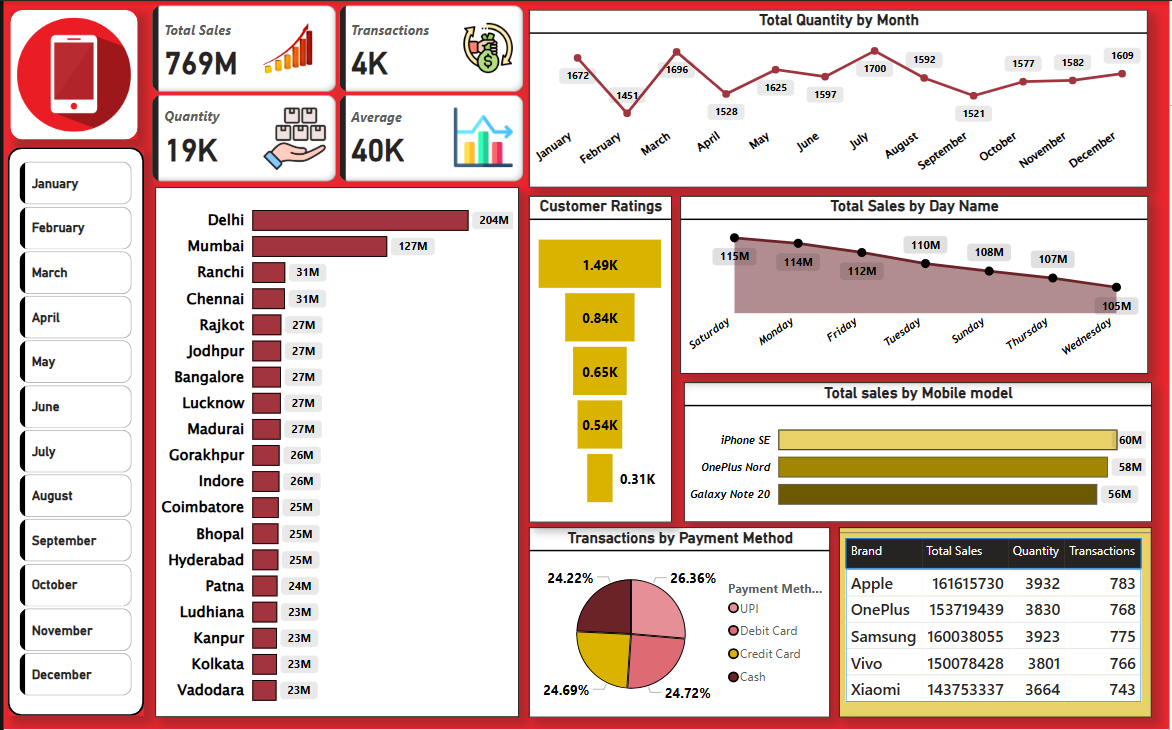

The page's visual inventory and layout, read from the dashboard file:
{"tool":"powerbi","page":{"name":"Page 1","canvas":[1280,800],"ordinal":0},"visuals":[{"type":"shape","box":[6.9,9.6,140,142.7],"z":0},{"type":"image","box":[9.6,13.7,134.5,134.5],"z":1000},{"type":"shape","box":[4.1,160.5,149.6,624.4],"z":2000},{"type":"advancedSlicerVisual","fields":{"Values":["Sheet1.Date.Variation.Date Hierarchy.Month"]},"box":[12.3,171.5,133.1,603.8],"z":3000},{"type":"cardVisual","fields":{"Data":["Sheet1.Total Sales","Sheet1.Total Transactions","Sheet1.Total Quantity","Sheet1.Average"]},"box":[157.8,0,418.5,204.5],"z":4000},{"type":"barChart","fields":{"Category":["Sheet1.City"],"Y":["Sheet1.Total Sales"]},"box":[166,204.5,399.3,581.8],"z":5000},{"type":"lineChart","title":"Total Quantity by Month","fields":{"Y":["Sheet1.Quantity"],"Category":["Sheet1.Date.Variation.Date Hierarchy.Month","Sheet1.Date.Variation.Date Hierarchy.Day"]},"box":[576.3,9.6,679.2,194.9],"z":6000},{"type":"barChart","title":"Total sales by Mobile model","fields":{"Category":["Sheet1.Mobile Model"],"Y":["Sheet1.Total Sales"]},"box":[746.5,418.5,513.2,153.7],"z":7000},{"type":"pieChart","fields":{"Category":["Sheet1.Payment Method"],"Y":["Sheet1.Transactions"]},"box":[576.3,577.7,330.7,208.6],"z":8000},{"type":"funnel","title":" Customer Ratings ","fields":{"Y":["CountNonNull(Sheet1.Customer Ratings)"],"Category":["Sheet1.Customer Ratings"]},"box":[576.3,214.1,156.4,358.1],"z":9000},{"type":"areaChart","fields":{"Category":["Sheet1.Day Name"],"Y":["Sheet1.Total Sales"]},"box":[742.4,214.1,513.2,194.9],"z":10000},{"type":"tableEx","fields":{"Values":["Sheet1.Brand","Sheet1.Total Sales","Sheet1.Quantity","Sheet1.Transactions"]},"box":[916.6,577.7,343.1,208.6],"z":10001}]}

Visuals, with their boxes in screenshot pixels (x1, y1, x2, y2), scaled from the page's 1280x800 canvas onto the 1172x730 screenshot:
shape: [left=6, top=9, right=135, bottom=139]
image: [left=9, top=13, right=132, bottom=135]
shape: [left=4, top=146, right=141, bottom=716]
advancedSlicerVisual - Sheet1.Date.Variation.Date Hierarchy.Month: [left=11, top=156, right=133, bottom=707]
cardVisual - Sheet1.Total Sales x Sheet1.Total Transactions: [left=144, top=0, right=528, bottom=187]
barChart - Sheet1.City x Sheet1.Total Sales: [left=152, top=187, right=518, bottom=717]
"Total Quantity by Month" lineChart: [left=528, top=9, right=1150, bottom=187]
"Total sales by Mobile model" barChart: [left=684, top=382, right=1153, bottom=522]
pieChart - Sheet1.Payment Method x Sheet1.Transactions: [left=528, top=527, right=830, bottom=717]
" Customer Ratings " funnel: [left=528, top=195, right=671, bottom=522]
areaChart - Sheet1.Day Name x Sheet1.Total Sales: [left=680, top=195, right=1150, bottom=373]
tableEx - Sheet1.Brand x Sheet1.Total Sales: [left=839, top=527, right=1153, bottom=717]
